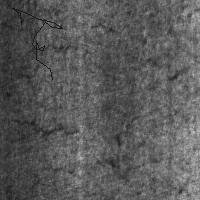crazing: (4, 41, 81, 141), (12, 8, 62, 79)
